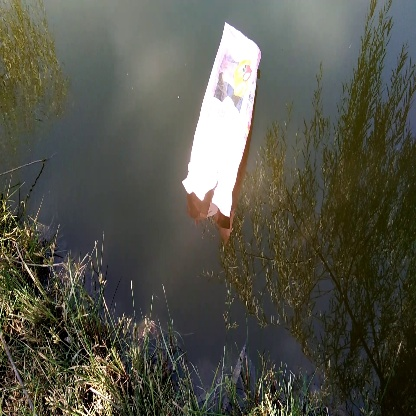plastic-bag: (179, 23, 264, 222)
